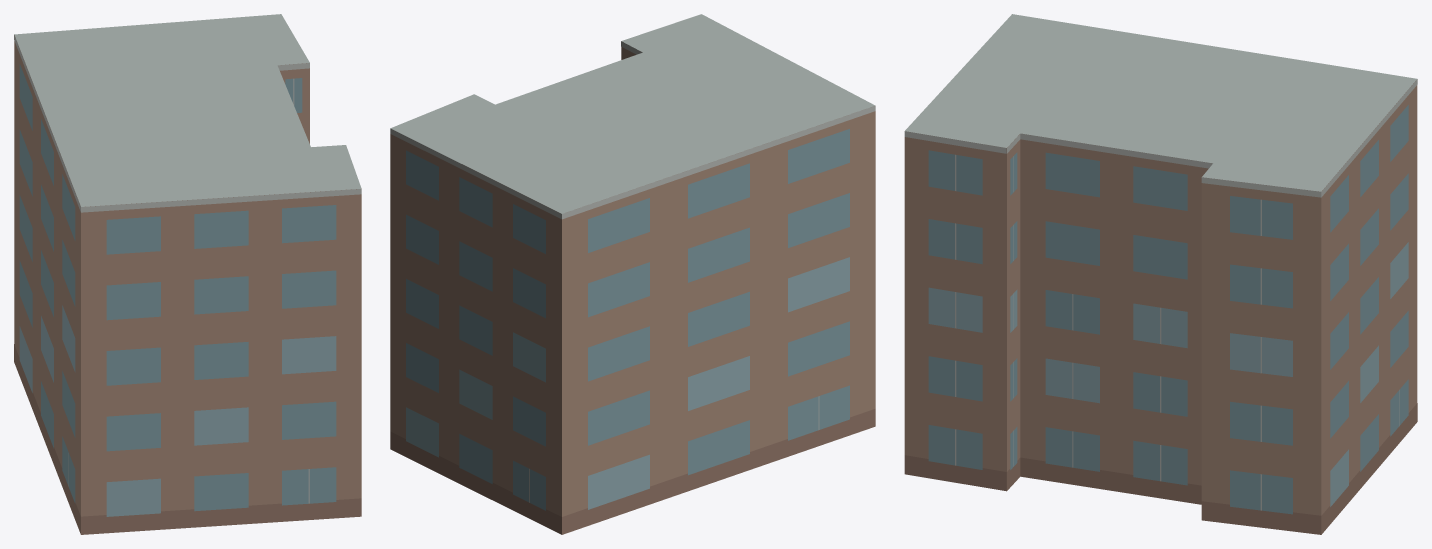
File: survey-upis-32711171.glb
3 views of the same model, side by side, from view 1: azimuth 30°, elevation 25°; view 2: azimuth 150°, elevation 25°; view 3: azimuth 270°, elevation 25° (orthographic). The views are drawn at different scales.
Visible parts, largest first — view 1: survey-upis-32711171.tmp; view 2: survey-upis-32711171.tmp; view 3: survey-upis-32711171.tmp.
Part boxes in pixels (x1,y1,x2,y2): survey-upis-32711171.tmp: (14,14,361,534); survey-upis-32711171.tmp: (390,14,875,534); survey-upis-32711171.tmp: (904,14,1417,534).
Bounding box in the file's own units: 15.9 × 14.3 × 19.38.
